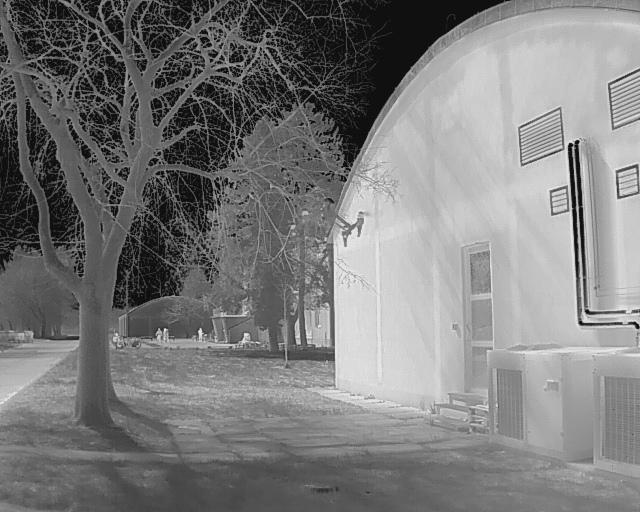drone: (274, 199, 368, 254)
